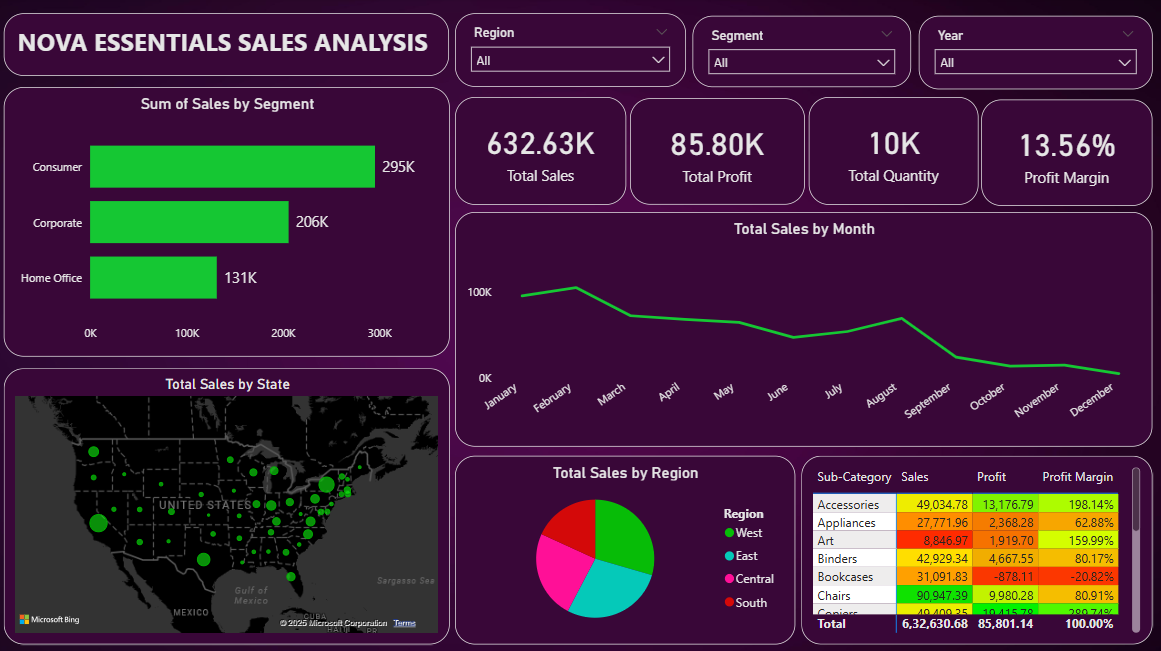

What the dashboard file says about the page in this screenshot:
{"tool":"powerbi","page":{"name":"Sales Performance Dashboard","canvas":[1280,720],"ordinal":0},"visuals":[{"type":"textbox","box":[9.6,17.8,488.5,68.6],"z":0},{"type":"card","fields":{"Values":["Store.Total Sales"]},"box":[505,109.8,188,118],"z":1000},{"type":"card","fields":{"Values":["Store.Total Profit"]},"box":[697.1,111.1,192.1,116.6],"z":2000},{"type":"card","fields":{"Values":["Store.Profit Margin"]},"box":[1082.7,112.5,188,116.6],"z":3000},{"type":"card","fields":{"Values":["Store.Total Quantity"]},"box":[893.3,109.8,186.6,118],"z":4000},{"type":"slicer","fields":{"Values":["Store.Year"]},"box":[1014.1,20.6,256.6,81],"z":5000},{"type":"slicer","fields":{"Values":["Store.Segment"]},"box":[765.7,20.6,240.1,78.2],"z":6000},{"type":"lineChart","fields":{"Category":["Store.Order Date.Variation.Date Hierarchy.Month"],"Y":["Store.Total Sales"]},"box":[505,236,765.7,258],"z":7000},{"type":"map","fields":{"Category":["Store.State"],"Size":["Store.Total Sales"]},"box":[9.6,407.5,489.9,303.3],"z":8000},{"type":"clusteredBarChart","fields":{"Category":["Store.Segment"],"Y":["Sum(Store.Sales)"]},"box":[9.6,98.8,489.9,296.4],"z":9000},{"type":"slicer","fields":{"Values":["Store.Region"]},"box":[505,17.8,253.9,81],"z":10000},{"type":"pieChart","title":"Total Sales by Region","fields":{"Category":["Store.Region"],"Y":["Sum(Store.Sales)"]},"box":[505,503.6,373.2,207.2],"z":11000},{"type":"pivotTable","fields":{"Rows":["Store.Sub-Category"],"Values":["Sum(Store.Sales)","Sum(Store.Profit)","Store.Profit Margin"]},"box":[885.1,503.6,385.6,207.2],"z":12000}]}

Visuals, with their boxes in screenshot pixels (x1, y1, x2, y2), scaled from the page's 1280x720 canvas onto the 1161x651 screenshot:
textbox: detection(9, 16, 452, 78)
card - Store.Total Sales: detection(458, 99, 629, 206)
card - Store.Total Profit: detection(632, 100, 807, 206)
card - Store.Profit Margin: detection(982, 102, 1153, 207)
card - Store.Total Quantity: detection(810, 99, 980, 206)
slicer - Store.Year: detection(920, 19, 1153, 92)
slicer - Store.Segment: detection(695, 19, 912, 89)
lineChart - Store.Order Date.Variation.Date Hierarchy.Month x Store.Total Sales: detection(458, 213, 1153, 447)
map - Store.State x Store.Total Sales: detection(9, 368, 453, 643)
clusteredBarChart - Store.Segment x Sum(Store.Sales): detection(9, 89, 453, 357)
slicer - Store.Region: detection(458, 16, 688, 89)
"Total Sales by Region" pieChart: detection(458, 455, 797, 643)
pivotTable - Store.Sub-Category x Sum(Store.Sales): detection(803, 455, 1153, 643)
